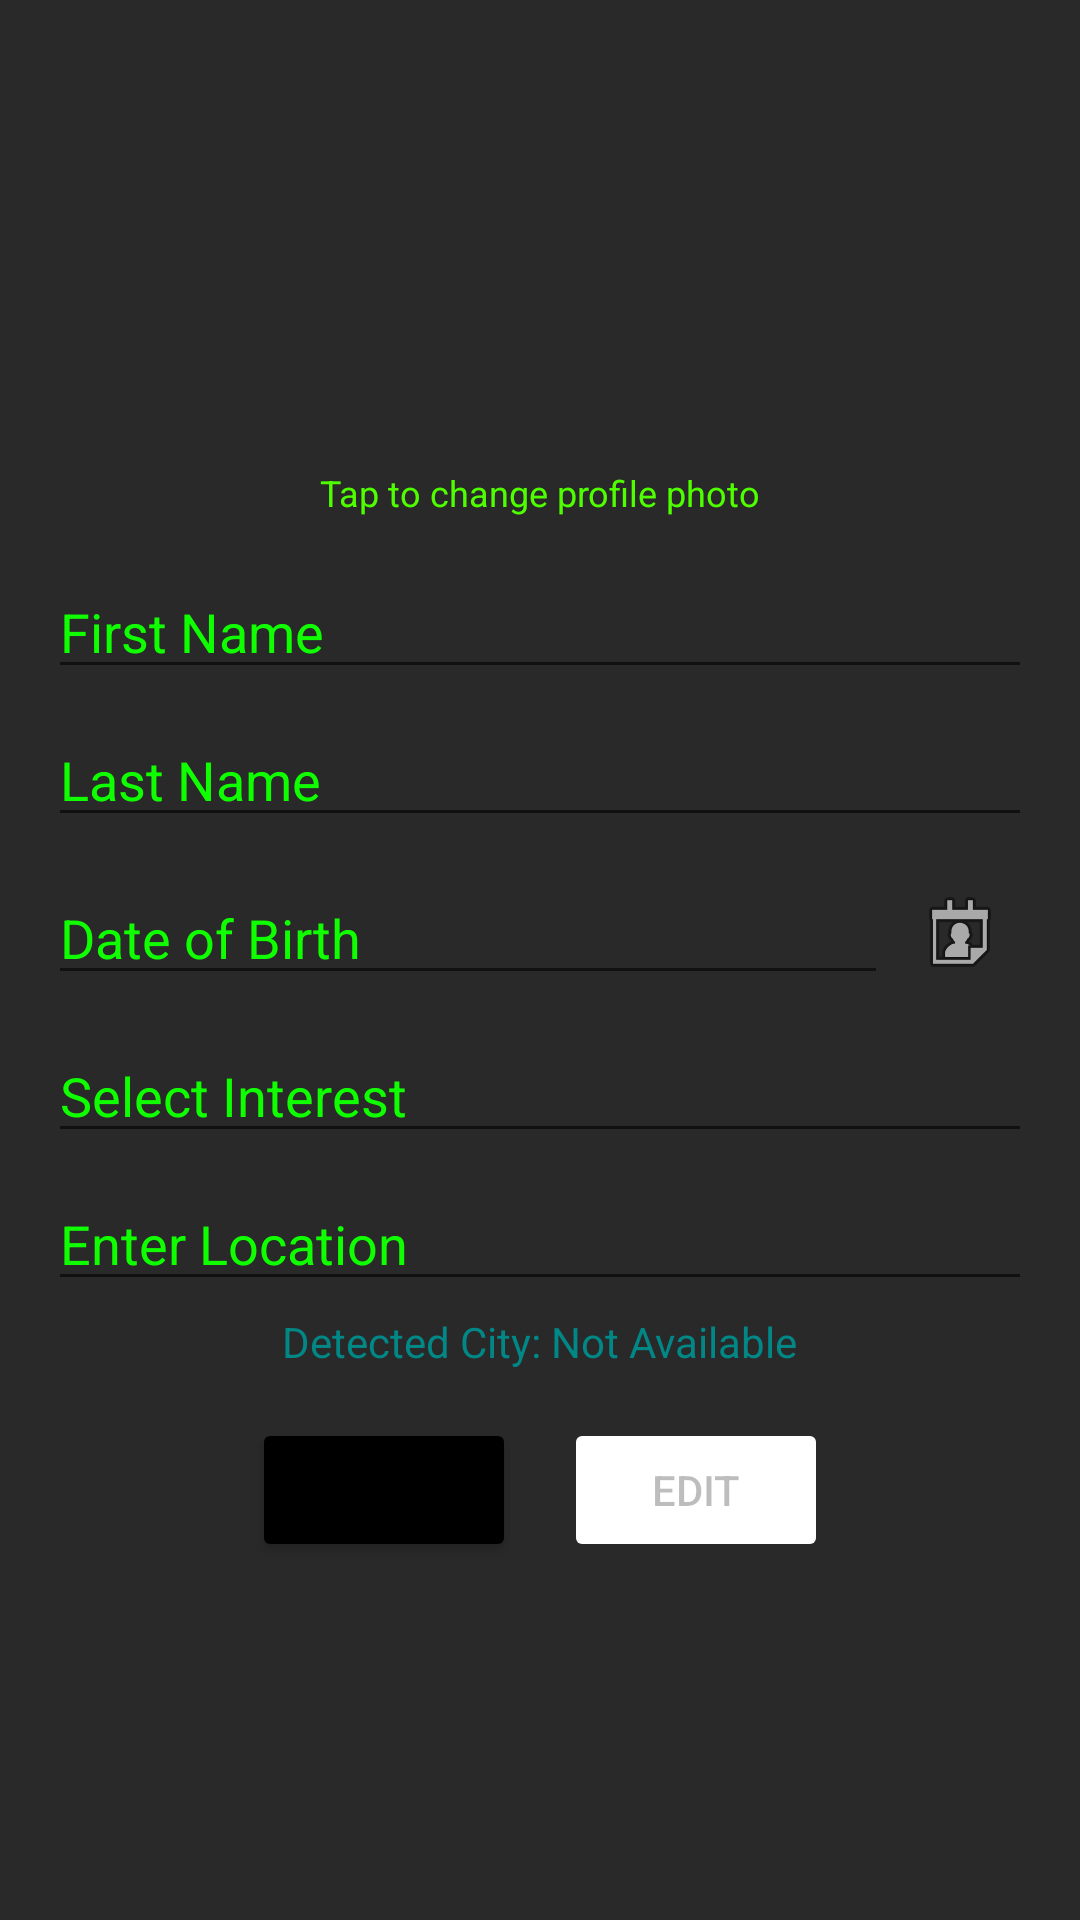

Screen size 1080px×1920px. Icon name, then its box in pixels as (x1,y1,x2,y2):
calendar: (932,900,988,964)
